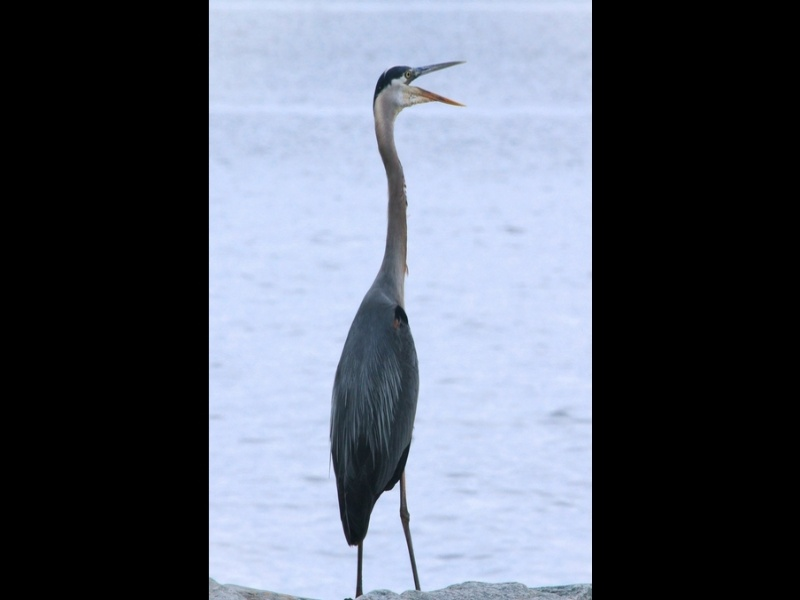heron: (326, 59, 469, 582)
